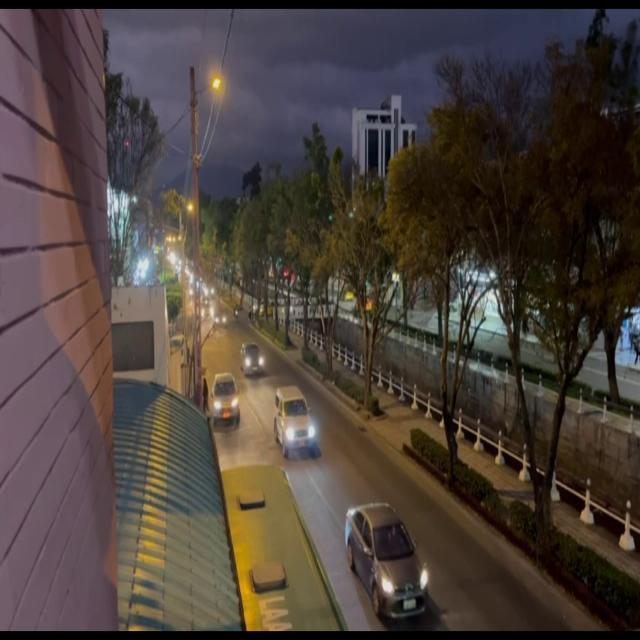CMT: (273, 389, 311, 455)
SED: (349, 507, 426, 616)
